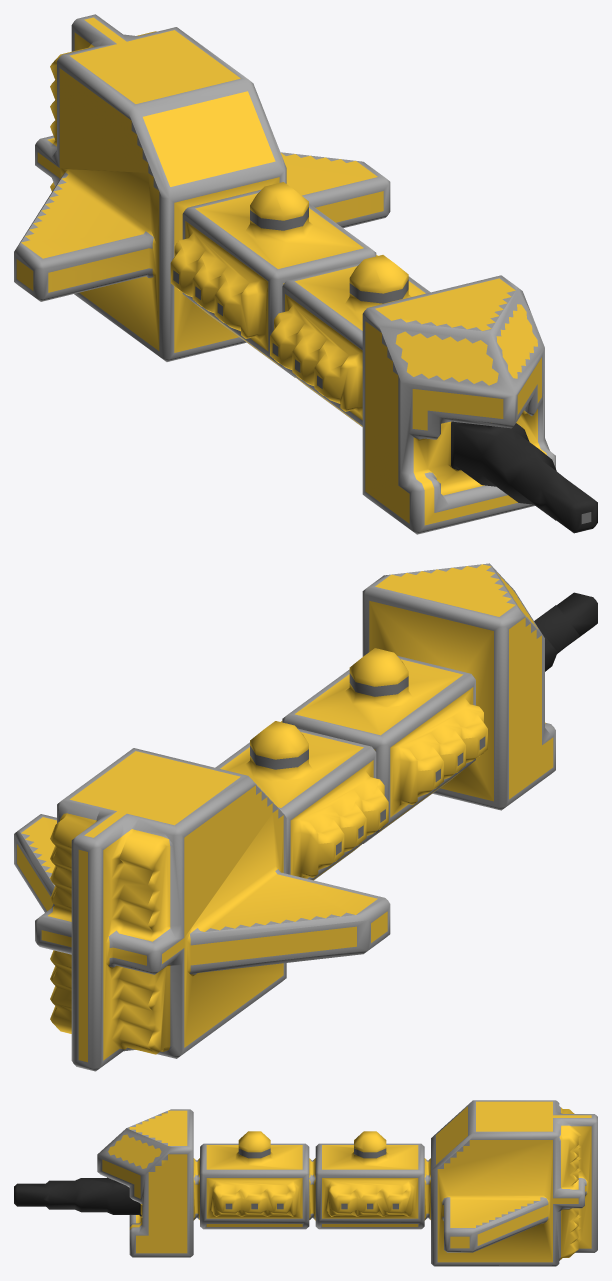
Rendered from mechyrdia-4-pietas-class.obj.
The picture shows the model from 3 angles, top to bottom: view 1: azimuth 30°, elevation 25°; view 2: azimuth 150°, elevation 25°; view 3: azimuth 270°, elevation 25°; orthographic projection. The views are drawn at different scales.
Bounding box in the file's own units: 37 × 23 × 91.
Materials: 1 (1 with a texture image).
